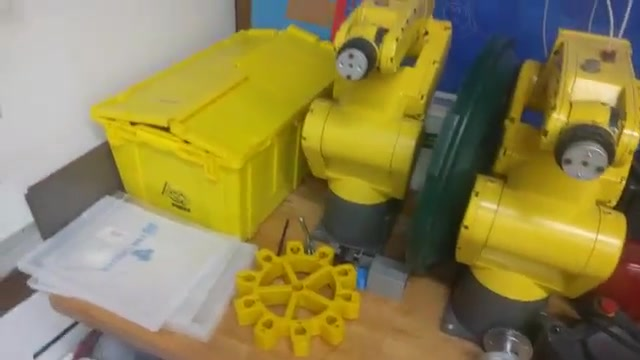gear: (229, 246, 363, 351)
